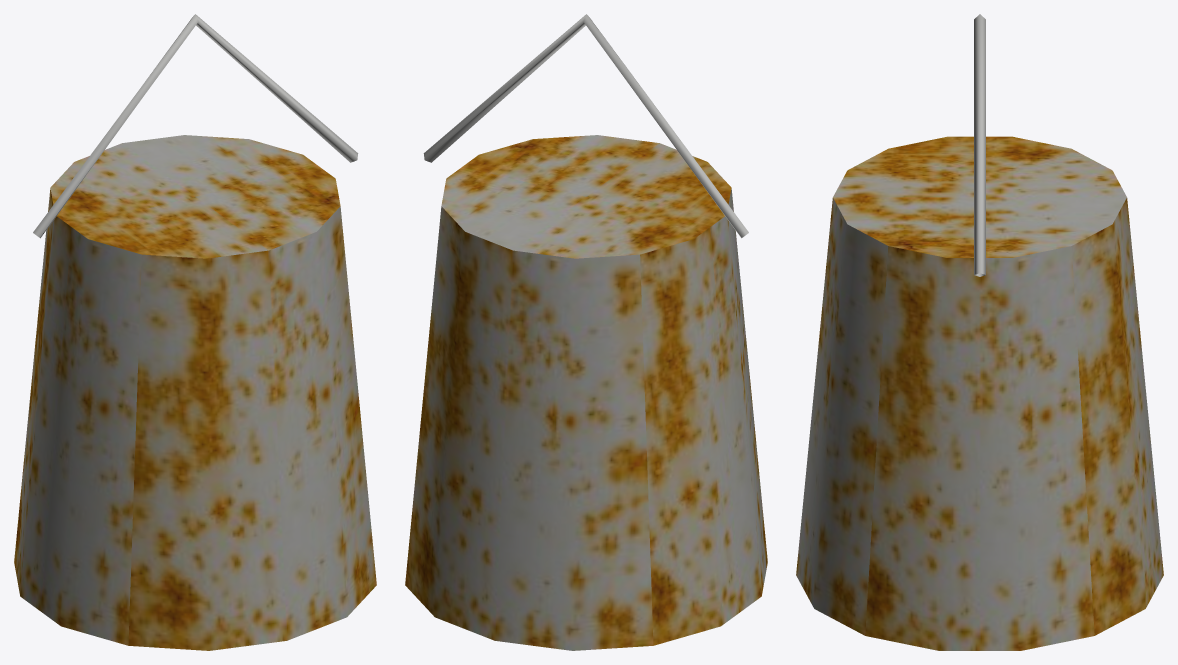
File: bucket.glb
3 renders of one model, left to right at view 1: azimuth 30°, elevation 25°; view 2: azimuth 150°, elevation 25°; view 3: azimuth 270°, elevation 25°, orthographic.
Parts seen in each view (by area): view 1: bucket; view 2: bucket; view 3: bucket.
Boxes of the visible parts, bbox=[...] form: bucket: bbox=[14, 14, 376, 650]; bucket: bbox=[405, 14, 767, 650]; bucket: bbox=[796, 14, 1163, 650].
Bounding box in the file's own units: 0.3073 × 0.505 × 0.3.
2 materials, 1 textured.
